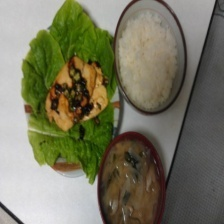rice: (119, 7, 177, 113)
